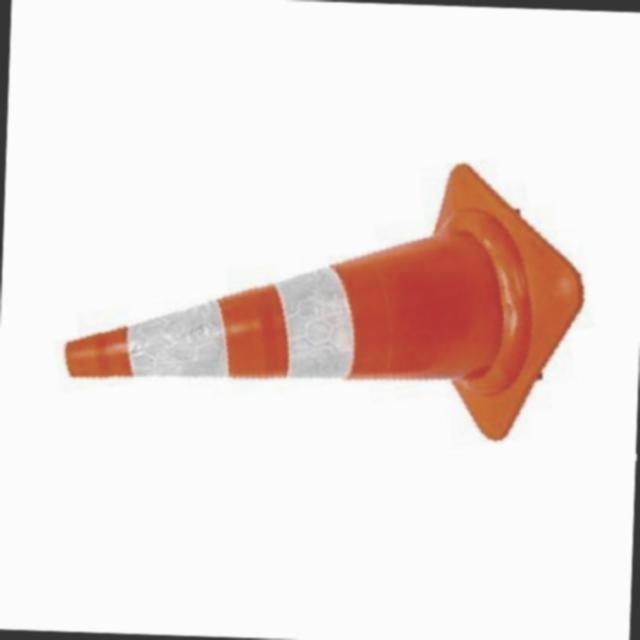traffic cone: (63, 163, 585, 444)
